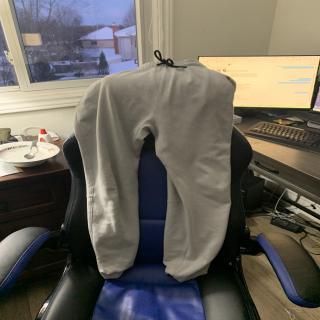White Sweatpants: (73, 58, 238, 280)
